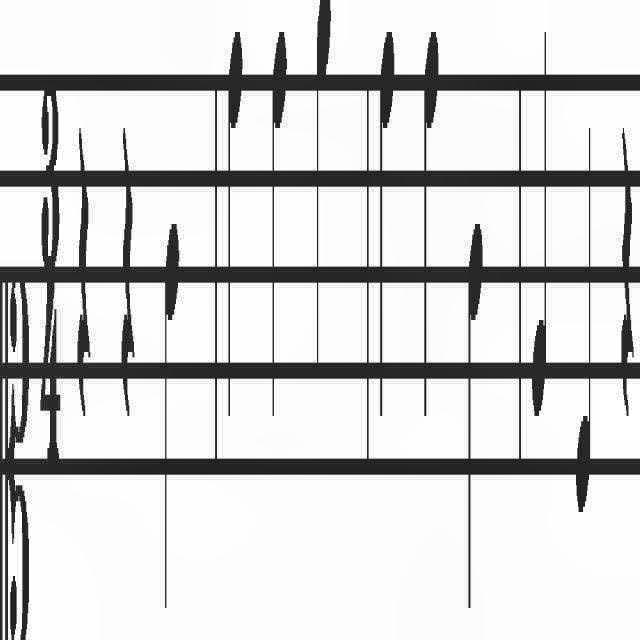Quarter-note: (416, 0, 447, 452), (464, 176, 488, 640), (268, 1, 292, 443), (528, 1, 552, 443), (573, 71, 595, 537), (162, 196, 186, 596), (224, 0, 243, 420), (311, 0, 332, 372), (379, 1, 397, 412)
Quarter-rest: (107, 74, 141, 526), (67, 96, 97, 468), (616, 93, 638, 459)
